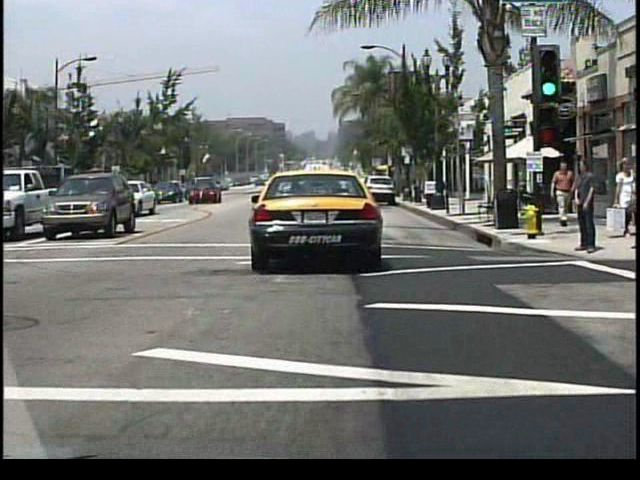person: (577, 156, 600, 256), (554, 161, 577, 226), (615, 154, 639, 210)
